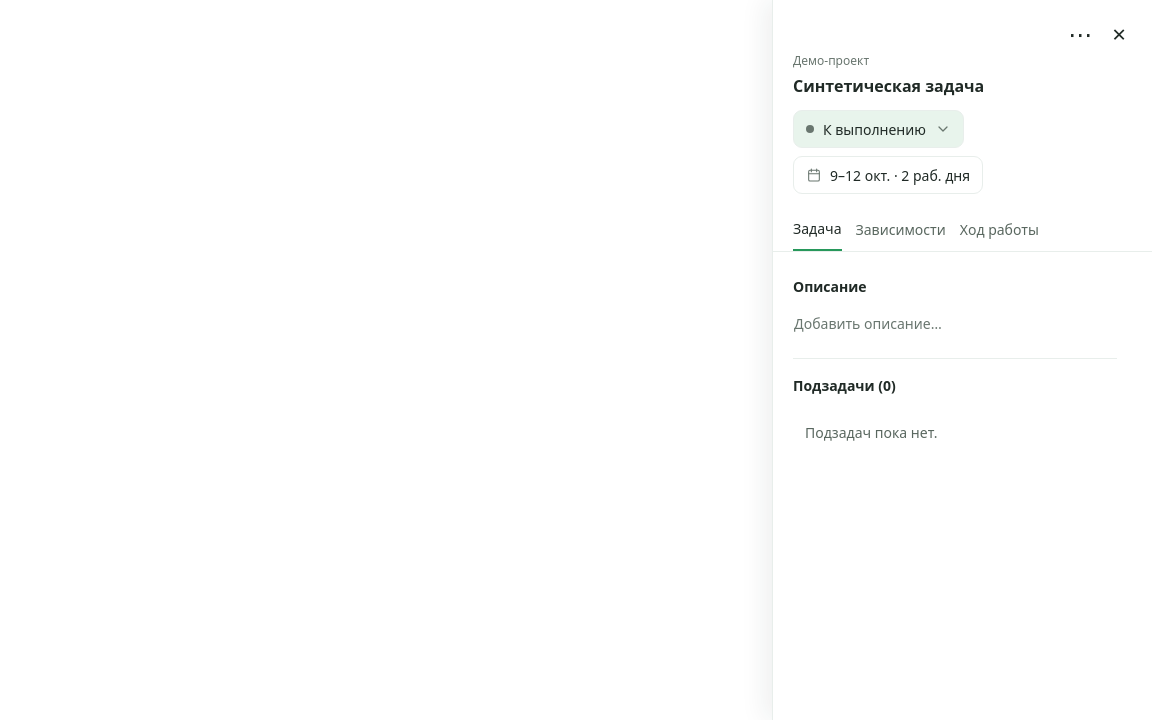
Test case: keeps invalid date 10.10.2026 local and addressed
The width and height of the screenshot is (1152, 720).
Click the button with aria-label "Сроки задачи:" at (888, 175), box [793,156,983,194]
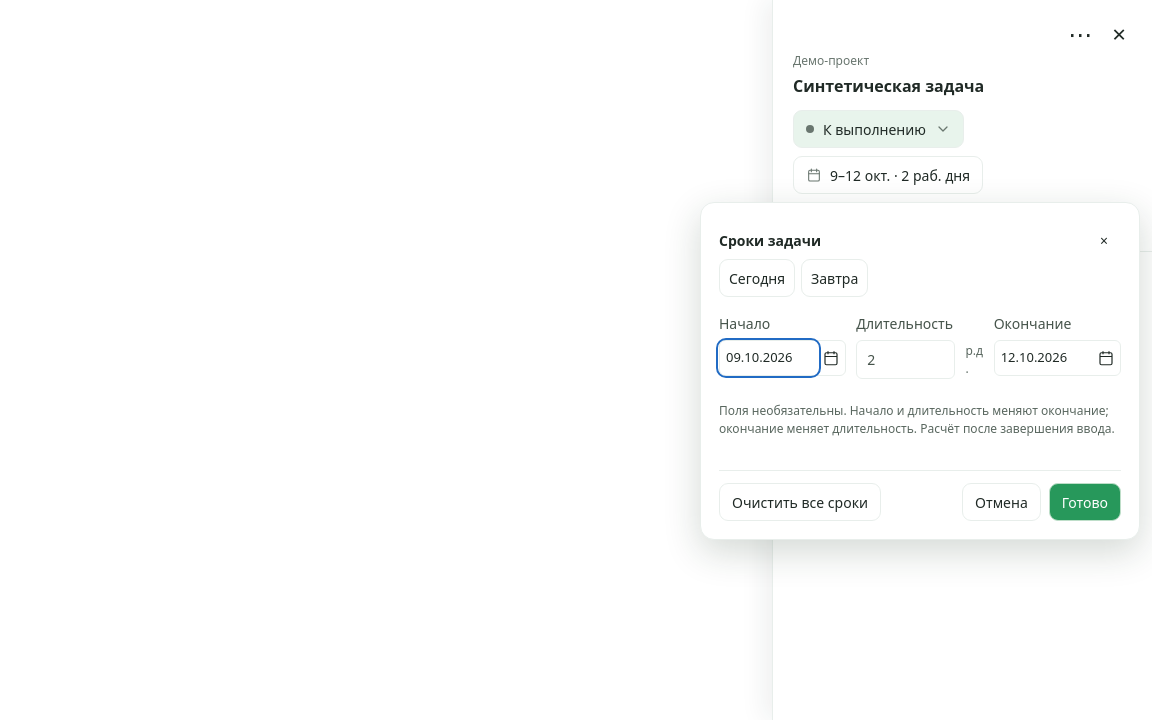
Replace the text in the field labelled "Начало" with "10.10.2026" at (769, 358), box [720,342,817,374]
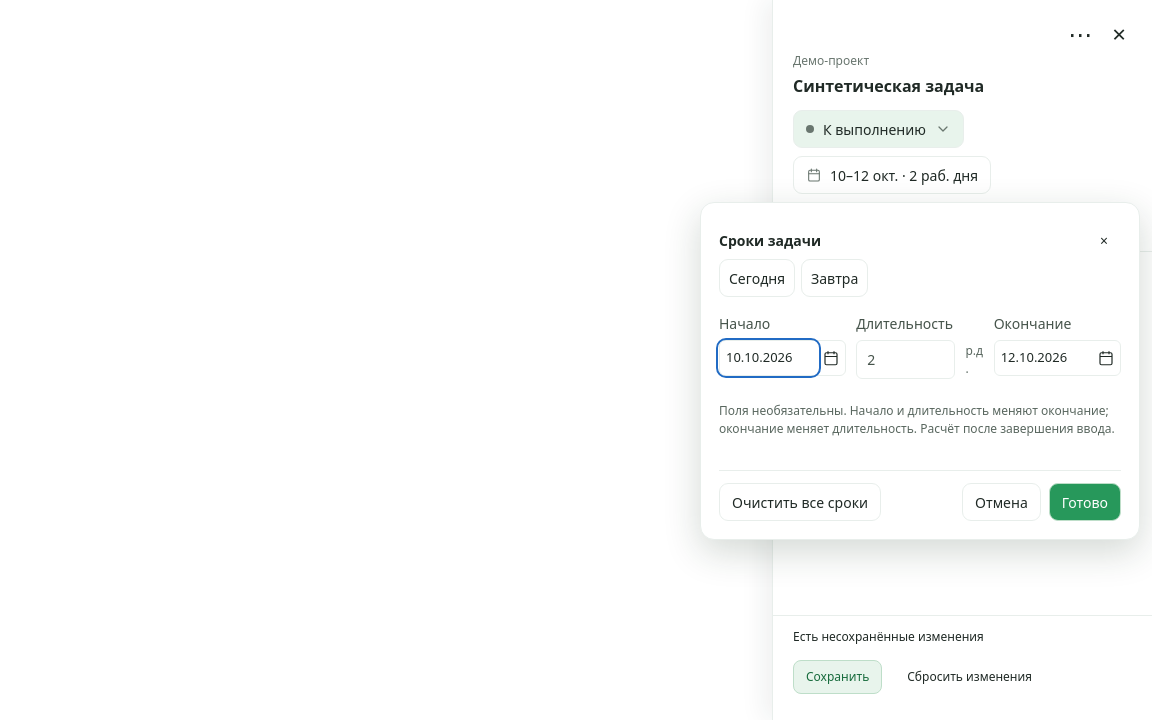
Click the button "Готово" at (1085, 502), box [1049,483,1121,521]
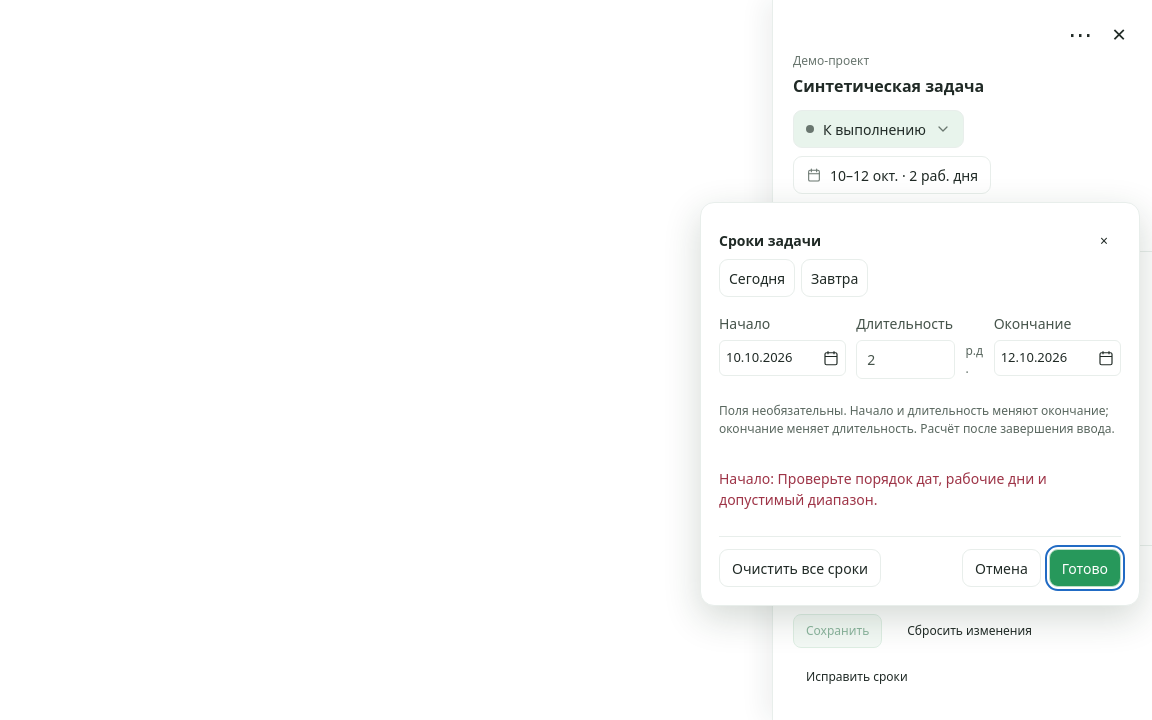
Check: the dialog "Сроки задачи" is shown, box [700,202,1140,606]
Check: the button "Сохранить" is disabled, box [793,614,882,648]
